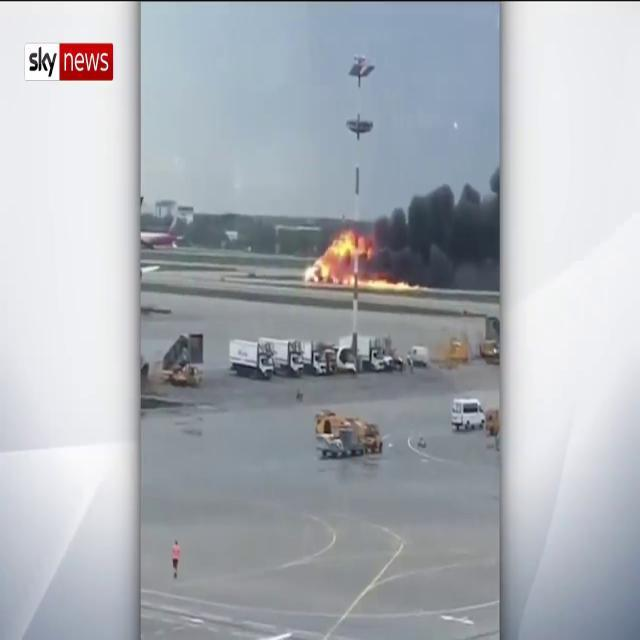Fire: (306, 226, 378, 288)
Smoke: (376, 169, 498, 279)
